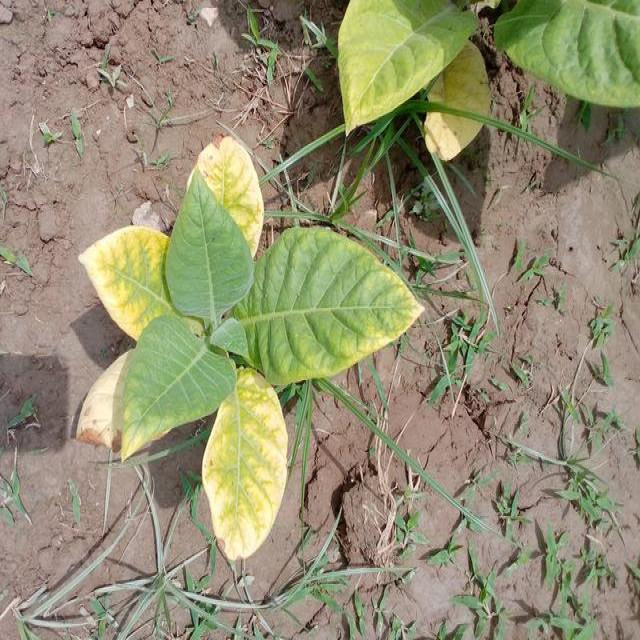crop: (74, 134, 422, 546)
